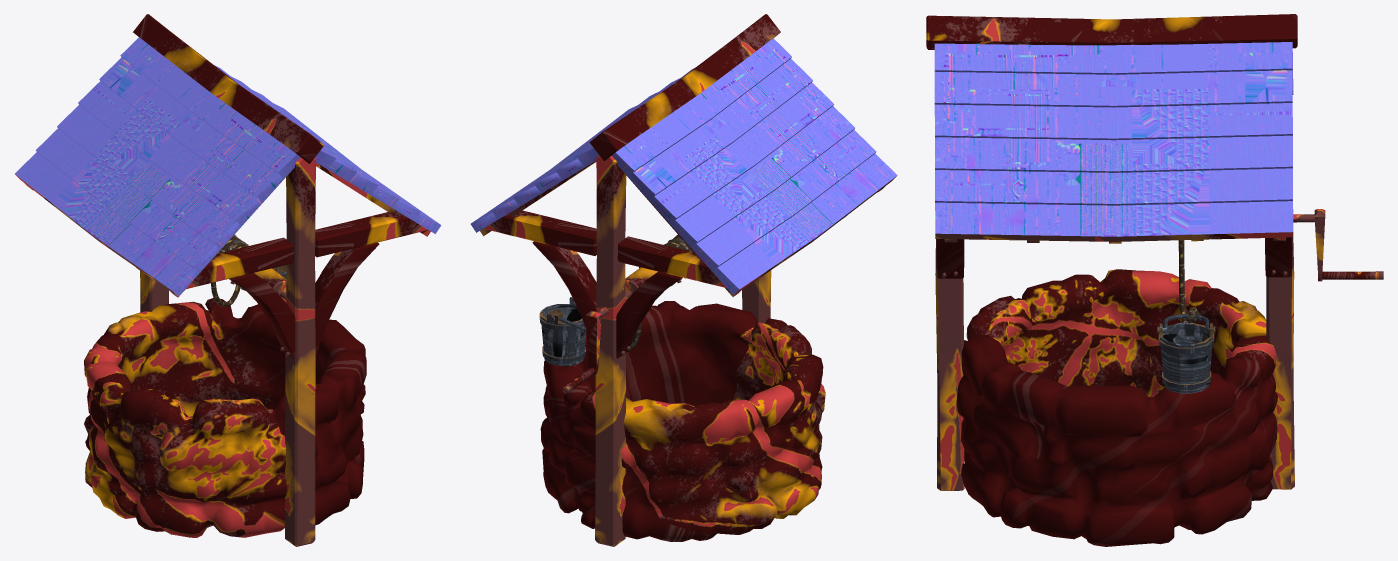
Rendered from well.fbx.
The picture shows the model from 3 angles, left to right: view 1: azimuth 30°, elevation 25°; view 2: azimuth 150°, elevation 25°; view 3: azimuth 270°, elevation 25°; orthographic projection. The views are drawn at different scales.
Visible parts, largest first — view 1: Well_LP_Well_0, Well_LP_Roof_0, Well_LP_rope_0; view 2: Well_LP_Well_0, Well_LP_Roof_0, Well_LP_Bucket_0; view 3: Well_LP_Well_0, Well_LP_Roof_0, Well_LP_Bucket_0, Well_LP_rope_0.
Part boxes in pixels (box(x1,y1,x2,y2)): Well_LP_Well_0: box(15, 14, 430, 546); Well_LP_Roof_0: box(15, 37, 441, 296); Well_LP_rope_0: box(211, 234, 272, 306); Well_LP_Well_0: box(480, 14, 896, 546); Well_LP_Roof_0: box(470, 38, 897, 295); Well_LP_Bucket_0: box(539, 297, 586, 365); Well_LP_Well_0: box(926, 14, 1383, 546); Well_LP_Roof_0: box(934, 42, 1293, 236); Well_LP_Bucket_0: box(1157, 314, 1215, 393); Well_LP_rope_0: box(1178, 240, 1199, 323).
Size of the model in its own units: 3992 by 5903 by 5181.
